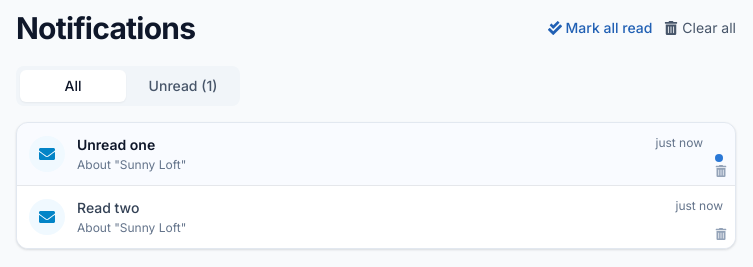
Notifications page › filters to unread only
This screenshot has width=753, height=267.
Check: the text "Unread one" is shown, box [77,135,155,155]
Click the button "Unread (1)" at (183, 86), box [130,70,236,102]
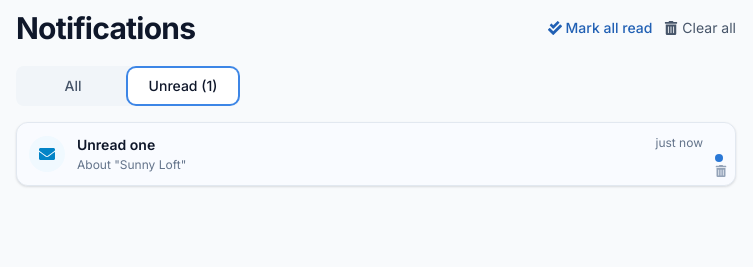
Check: the text "Unread one" is shown, box [77,135,155,155]
Check: the link "Read two" is gone
